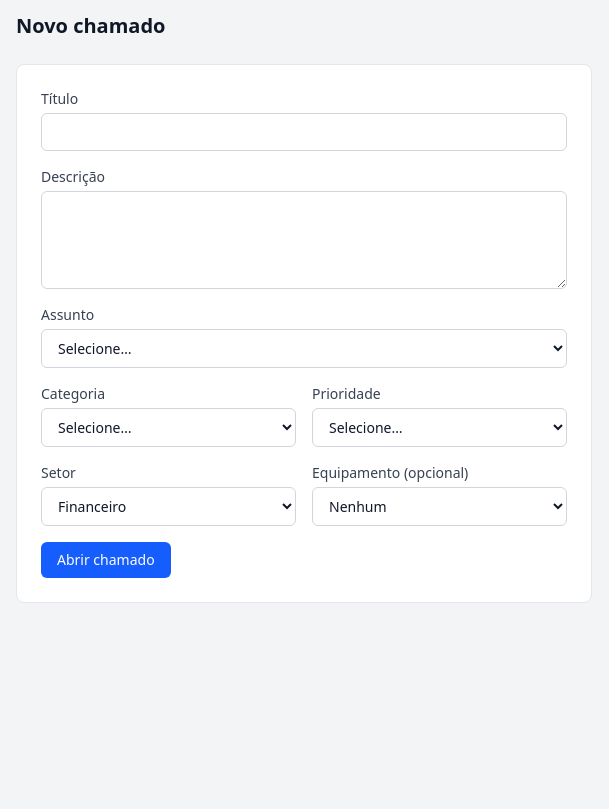
Test: NovoTicket: formulário do assunto › trocar para um assunto sem formulário remove os campos
Expected: the dropdown labelled "Setor" shows "Financeiro", x1=41 y1=487 x2=296 y2=526
Select "Acessos — Novo acesso" in the dropdown labelled "Assunto": x=304, y=348 x1=41 y1=329 x2=567 y2=368
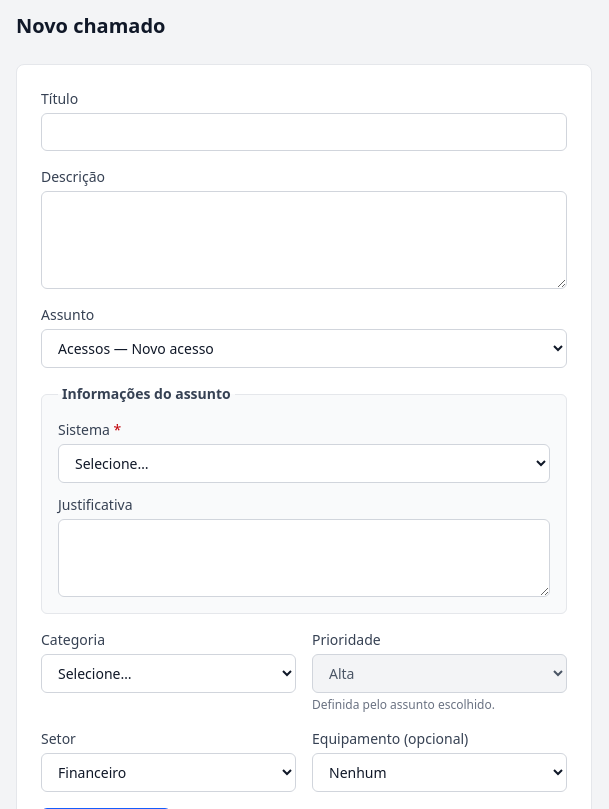
Now the dropdown labelled "Sistema *" is shown, box x1=58 y1=444 x2=550 y2=483
Select "Selecione…" in the dropdown labelled "Assunto": x=304, y=348 x1=41 y1=329 x2=567 y2=368
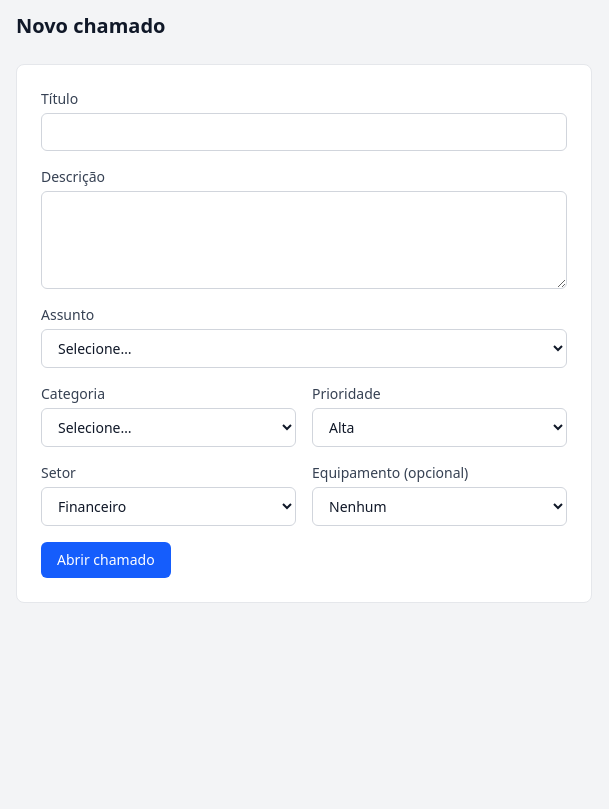
Now the field labelled "Sistema" is gone
